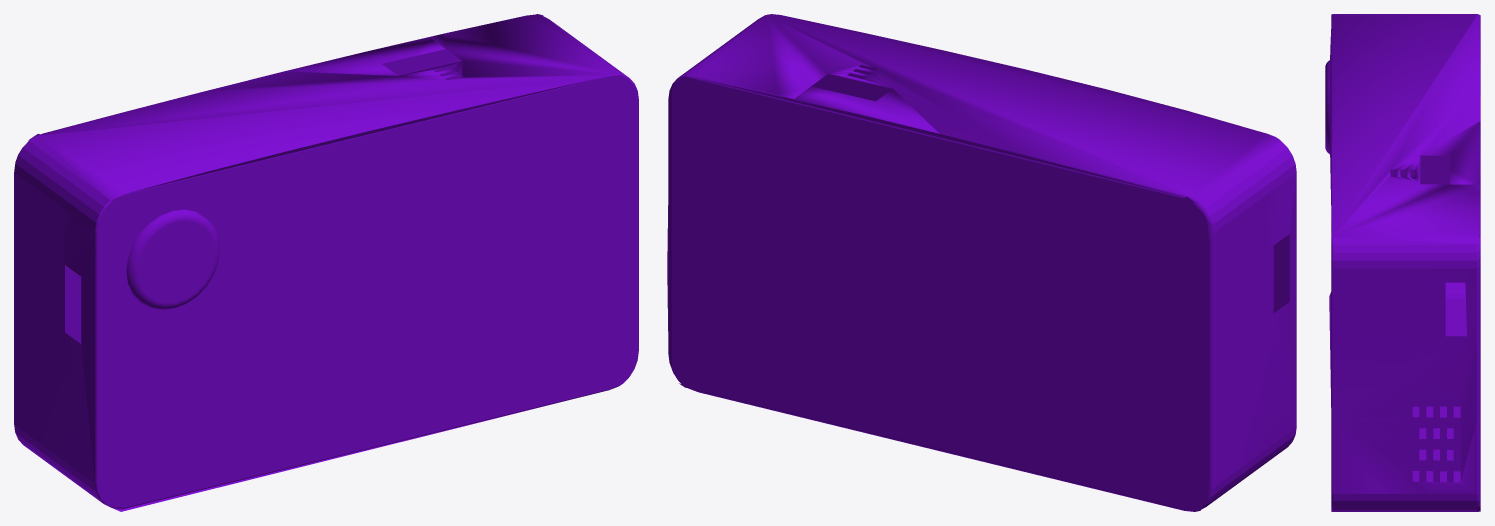
3 renders of one model, left to right at view 1: azimuth 30°, elevation 25°; view 2: azimuth 150°, elevation 25°; view 3: azimuth 270°, elevation 25°, orthographic. The views are drawn at different scales.
Visible parts, largest first — view 1: Untitled; view 2: Untitled; view 3: Untitled.
Boxes of the visible parts, bbox=[...] form: Untitled: bbox=[14, 14, 638, 511]; Untitled: bbox=[667, 14, 1296, 511]; Untitled: bbox=[1325, 14, 1480, 511].
Size of the model in its own units: 4.54 by 2.53 by 1.25.
